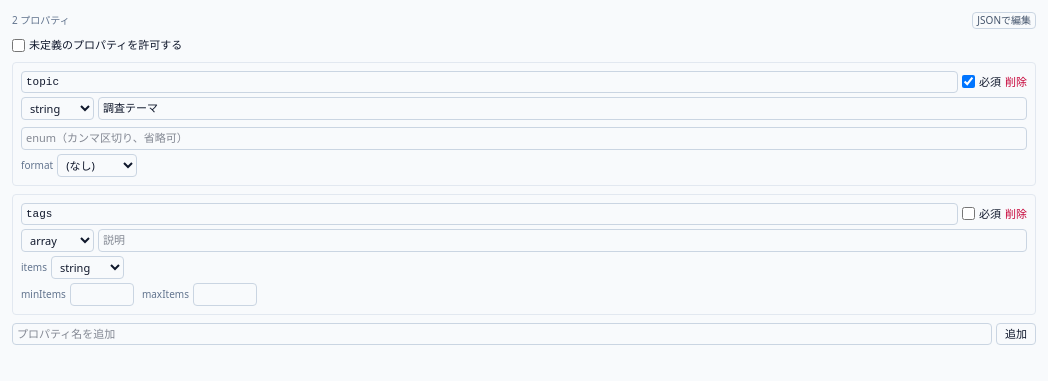
Test: SchemaAuthoringForm › rejects a duplicate rename and reverts the draft
This screenshot has width=1048, height=381.
Replace the text in the field with test id "d-topic-name" with "tags" at (490, 82), box [21,70,958,93]
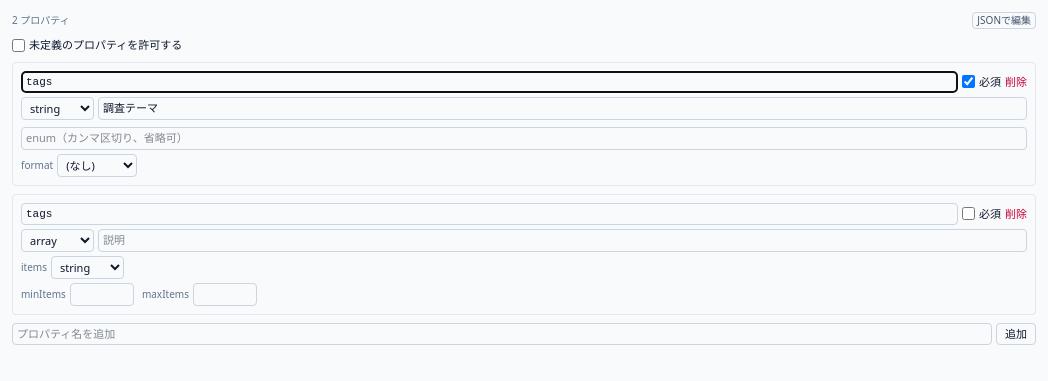
Press Tab
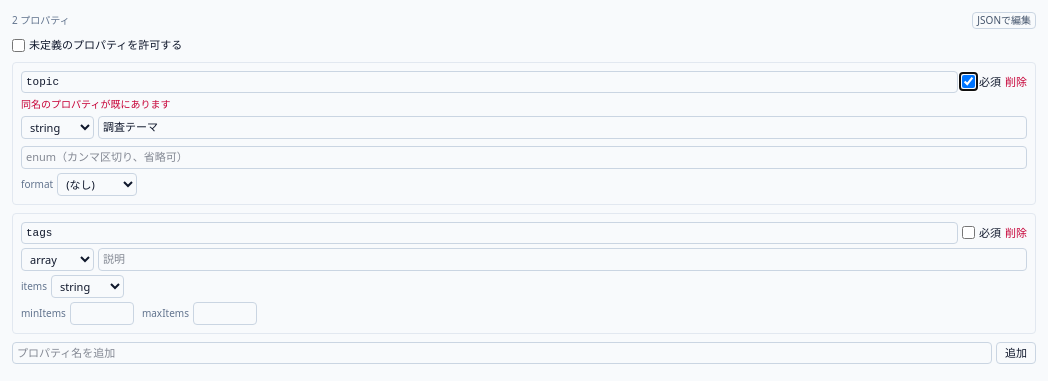
Result: the field with test id "d-topic-name" holds "topic" at [21,70,958,93]
Result: the text "同名のプロパティが既にあります" is shown at [21,97,170,111]
